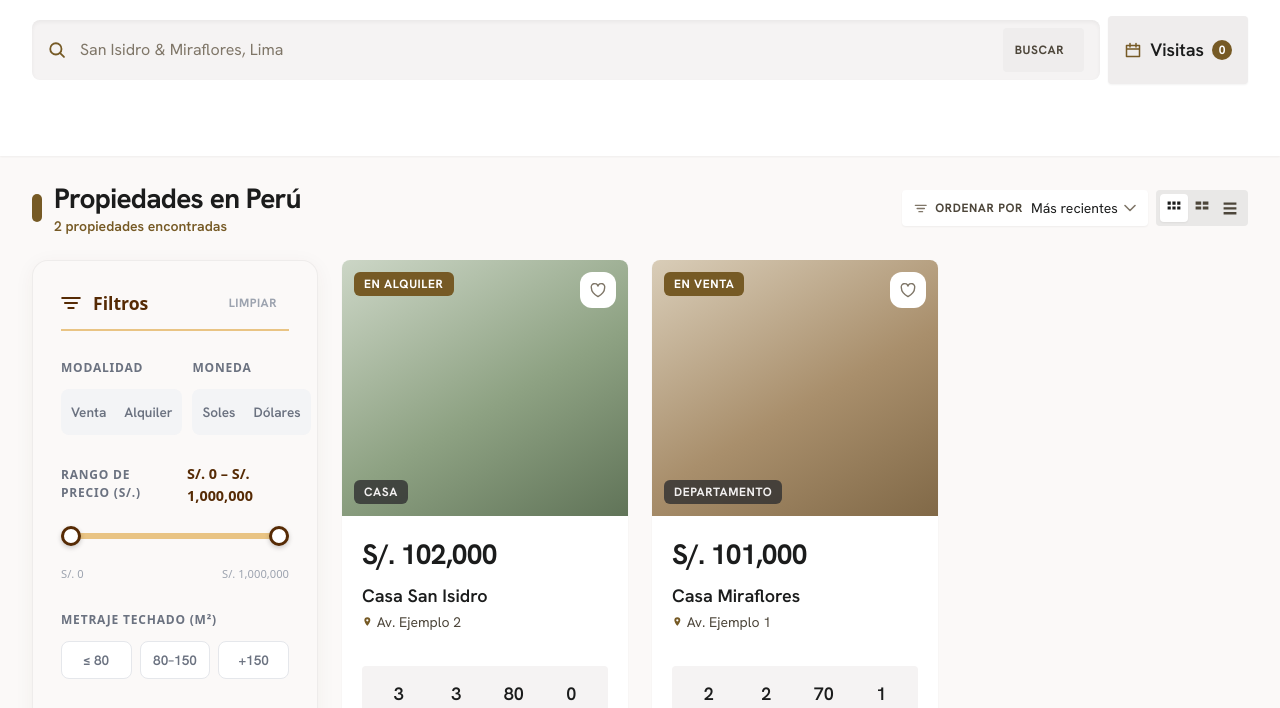
PropertyList (integración del catálogo) › Búsqueda y filtros › filtra por texto y limpia la búsqueda con el botón Limpiar
This screenshot has width=1280, height=708.
Check: the text "2 propiedades encontradas" is shown, box left=54, top=217, right=227, bottom=235
Type "miraflores" into the search field named "Buscar propiedades" at (534, 50), box left=78, top=37, right=991, bottom=63
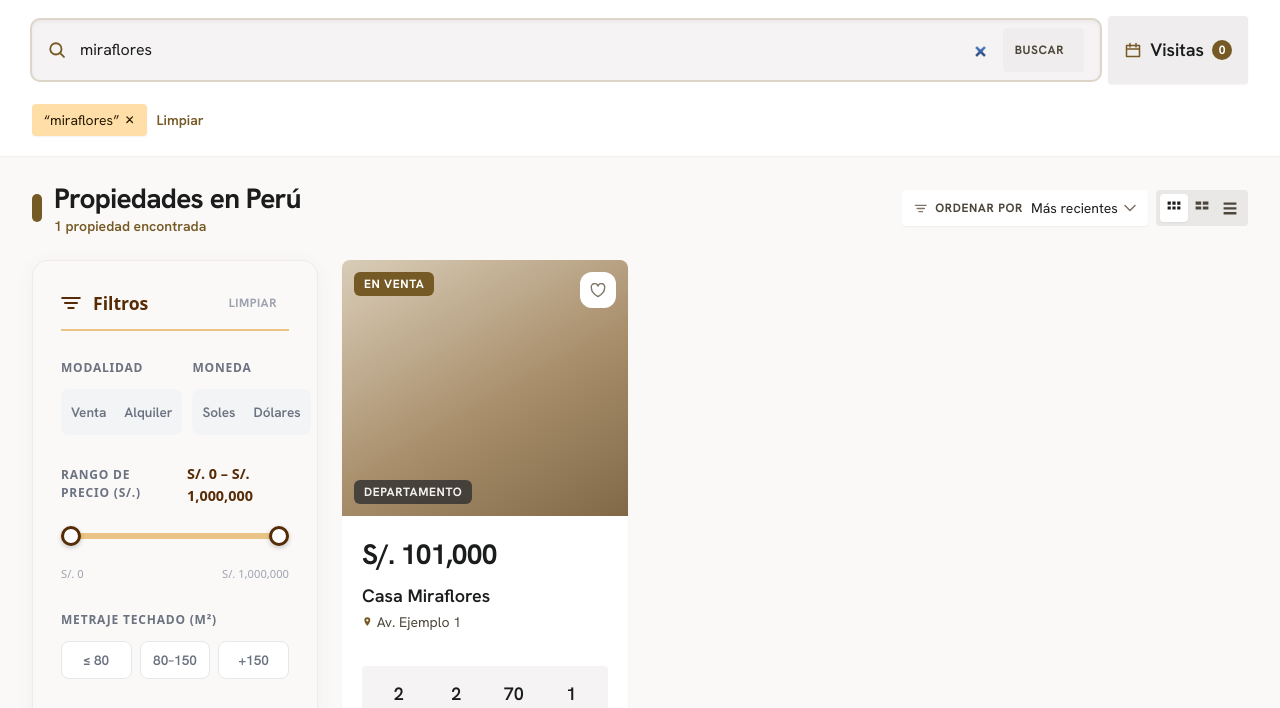
Check: the heading "Casa Miraflores" is shown, box left=362, top=584, right=490, bottom=607
Check: the text "1 propiedad encontrada" is shown, box left=54, top=217, right=206, bottom=235
Click the button "Limpiar" next to "“miraflores”" at (180, 120), box left=153, top=110, right=208, bottom=130
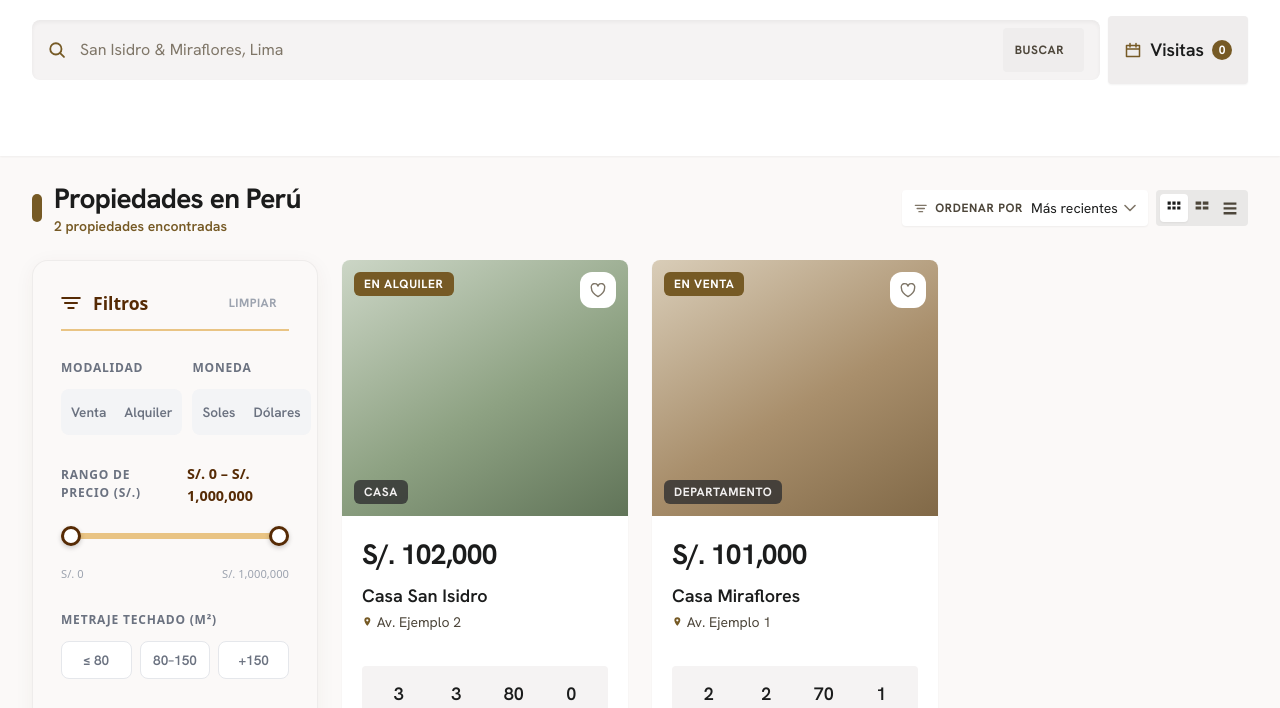
Check: the text "2 propiedades encontradas" is shown, box left=54, top=217, right=227, bottom=235
